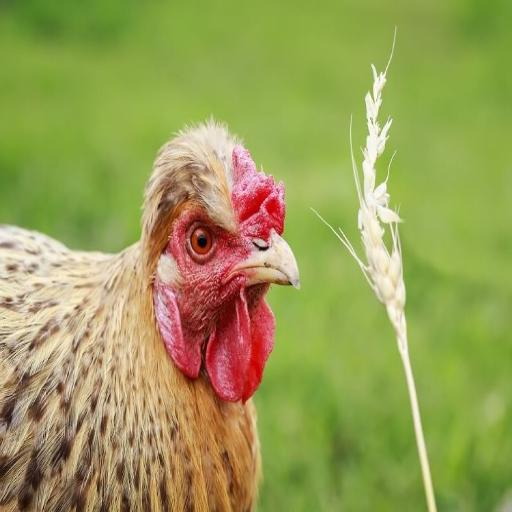healthy: (144, 114, 305, 400)
